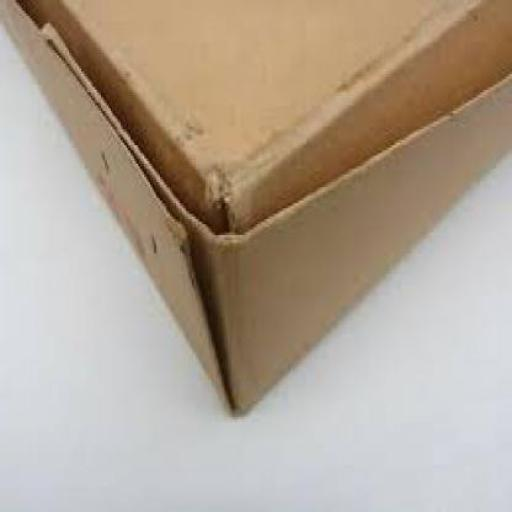cardboard: (1, 0, 511, 416)
